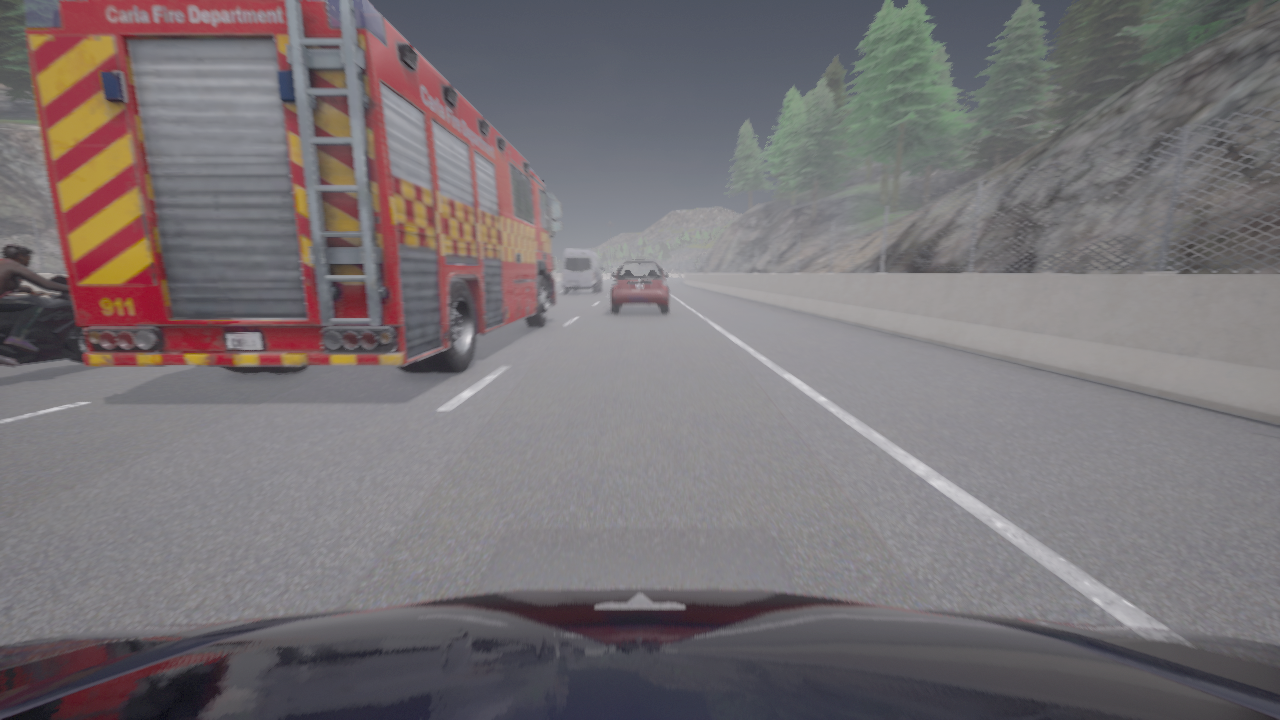cyclist: (23, 0, 562, 373), (0, 588, 1279, 719), (0, 275, 88, 366), (611, 260, 668, 314), (562, 249, 603, 293)
